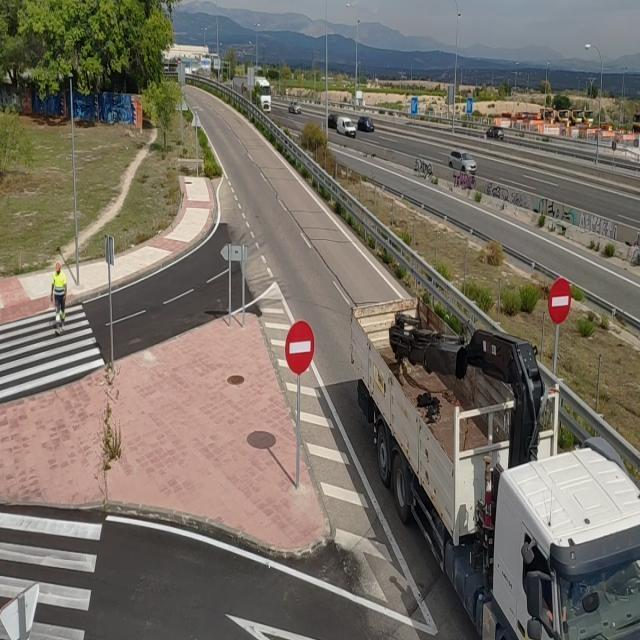Car: (449, 149, 480, 174), (288, 102, 302, 113)
Truck: (348, 291, 640, 640)
Van: (336, 116, 356, 138), (358, 116, 374, 132)
